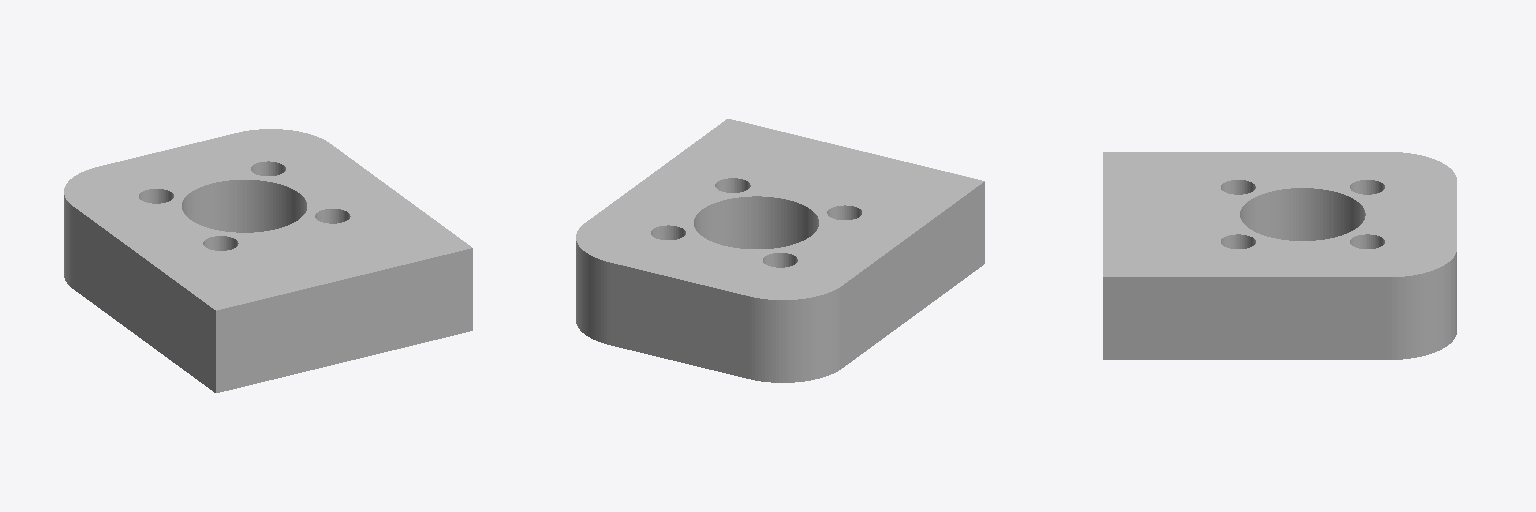
The model's file is LeadScrewMount.obj.
3 views of the same model, side by side, from view 1: azimuth 30°, elevation 25°; view 2: azimuth 150°, elevation 25°; view 3: azimuth 270°, elevation 25° (orthographic).
Visible parts, largest first — view 1: Body1; view 2: Body1; view 3: Body1.
Part boxes in pixels (x1,y1,x2,y2): Body1: (64, 129, 472, 392); Body1: (576, 119, 984, 382); Body1: (1103, 152, 1456, 359).
Size of the model in its own units: 26 by 8 by 31.